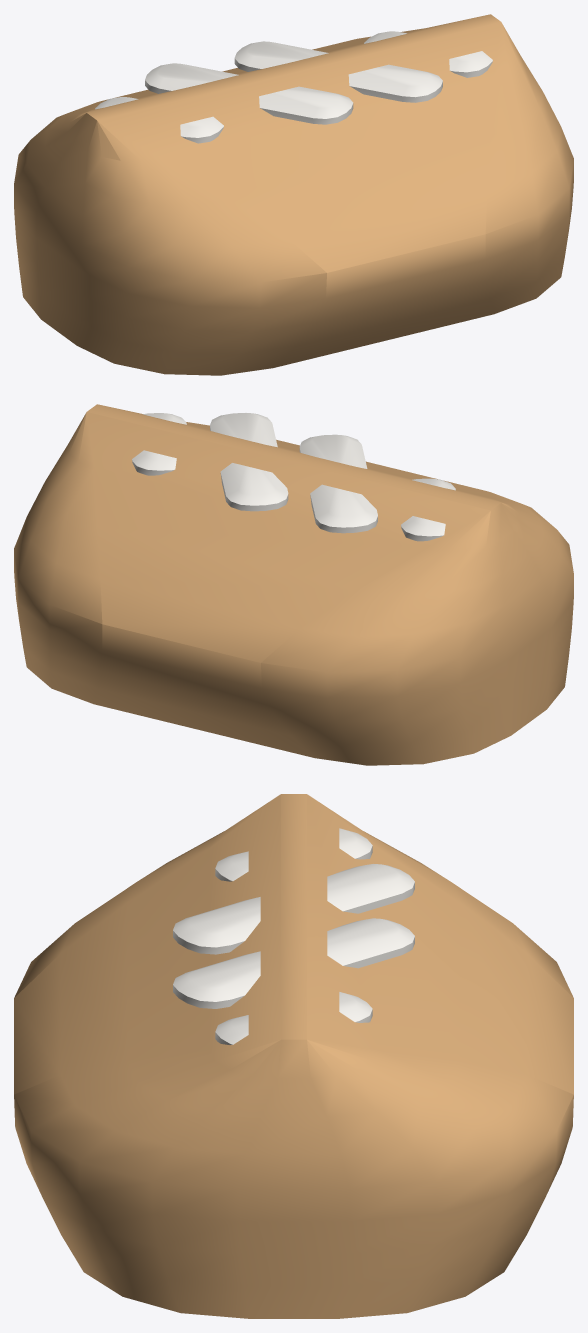
The model's file is bakery-and-cafe-sourdough-loaf-bd4ebaa1__22238.glb.
The picture shows the model from 3 angles, top to bottom: view 1: azimuth 30°, elevation 25°; view 2: azimuth 150°, elevation 25°; view 3: azimuth 270°, elevation 25°; orthographic projection. The views are drawn at different scales.
Visible parts, largest first — view 1: sourdough-loaf; view 2: sourdough-loaf; view 3: sourdough-loaf.
Boxes of the visible parts, x1,y1,x2,y2 form: sourdough-loaf: (14, 14, 573, 375); sourdough-loaf: (14, 404, 573, 765); sourdough-loaf: (14, 794, 573, 1318).
Bounding box in the file's own units: 0.26 × 0.11 × 0.2154.
